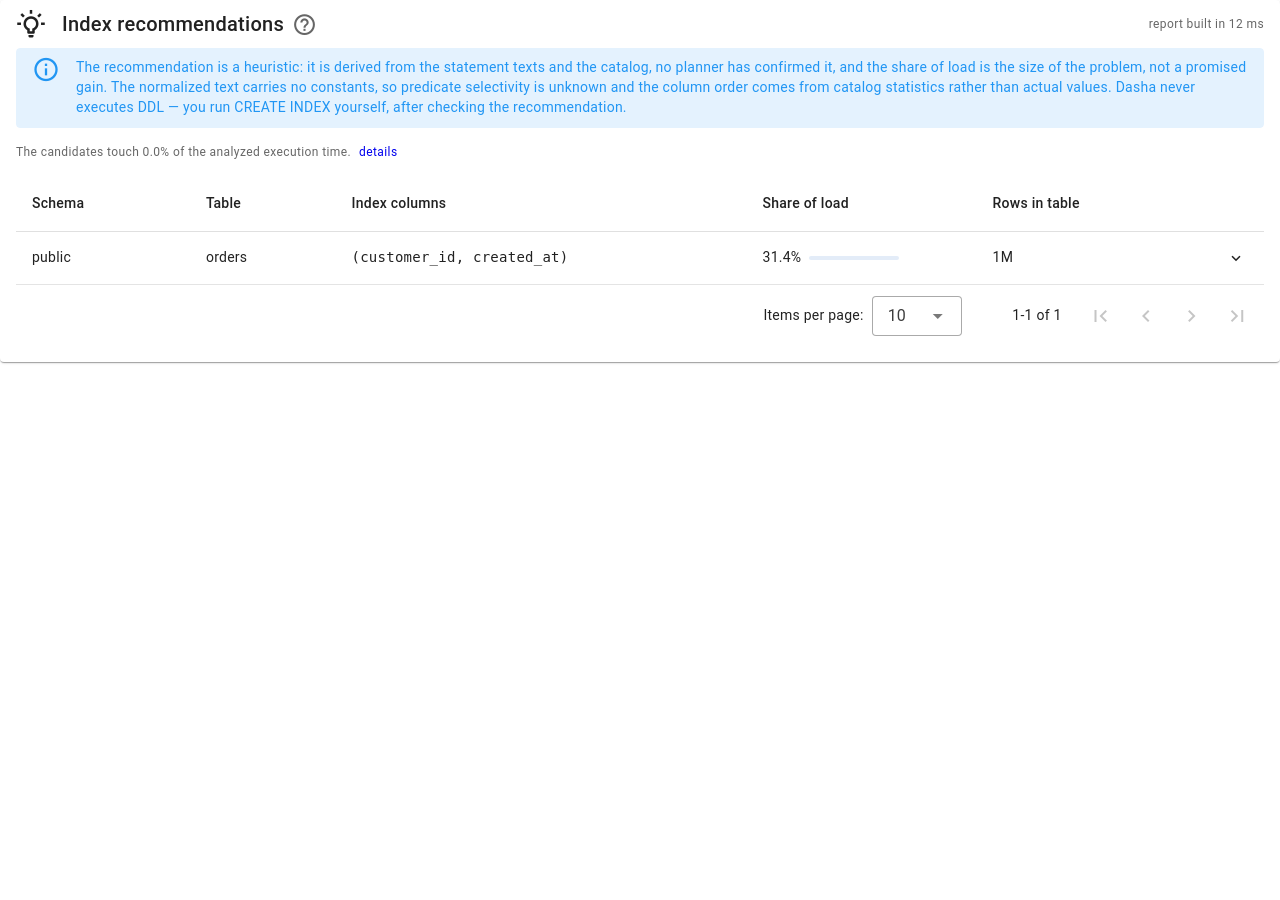
IndexAdvisorSection › names the existing indexes a similar_index warning points at
What coordinates should you click on to do the following:
click the 1st button
I would click on:
 (1236, 258)
Its box is [1216, 238, 1256, 278].
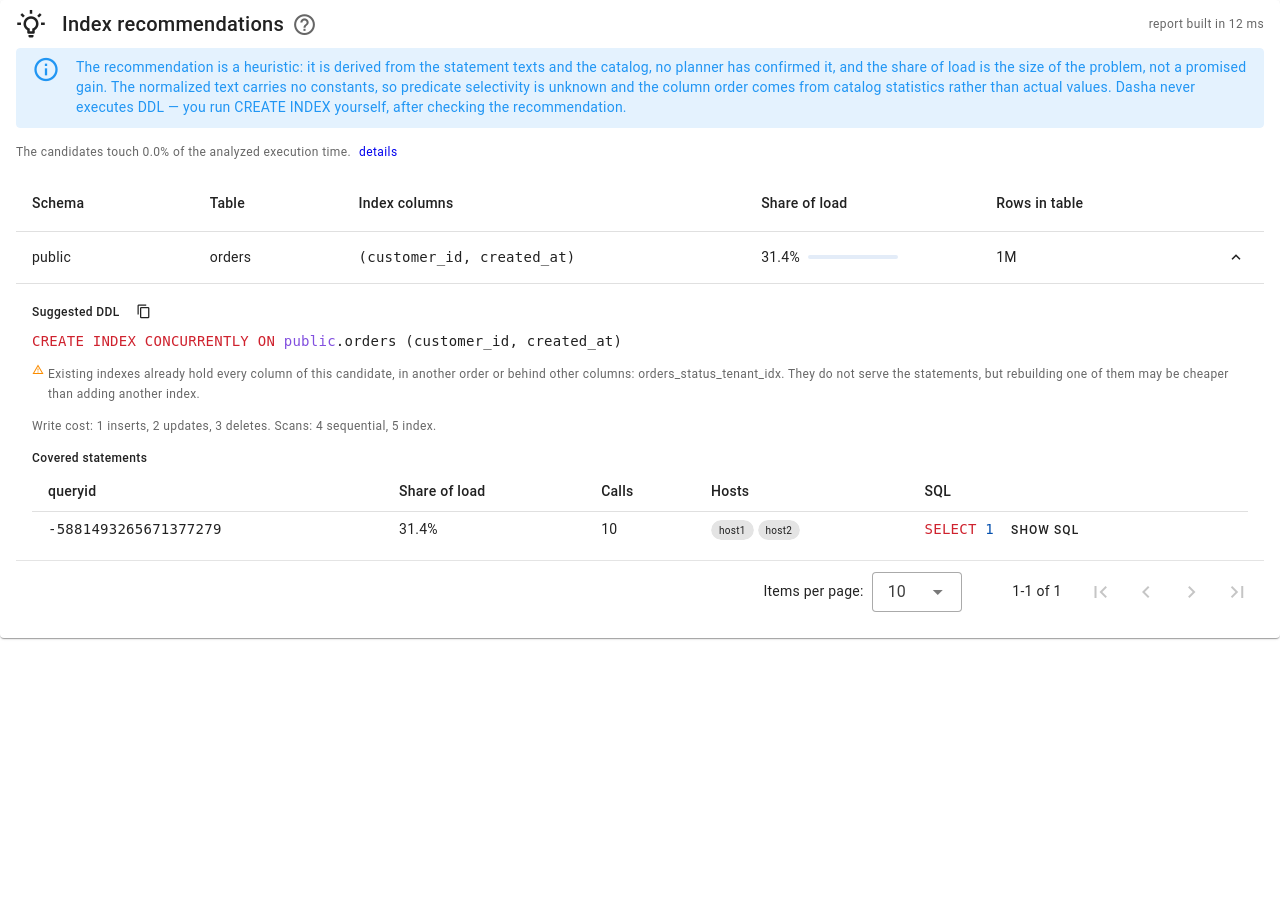
Check: the text "orders_status_tenant_idx" is shown, box [48, 367, 1229, 401]
